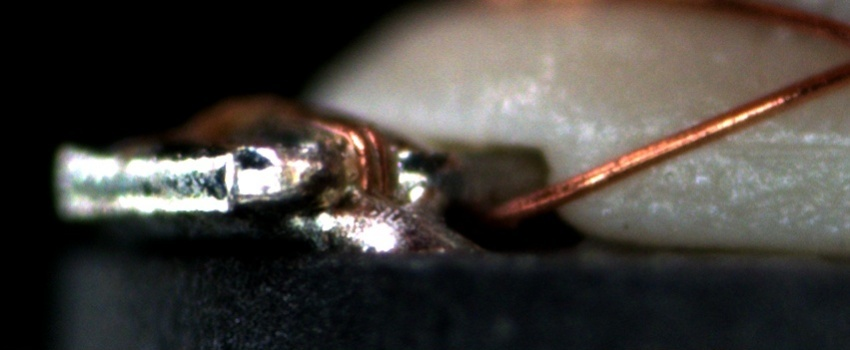DL: (584, 113, 849, 169)
TE: (305, 109, 390, 198)
